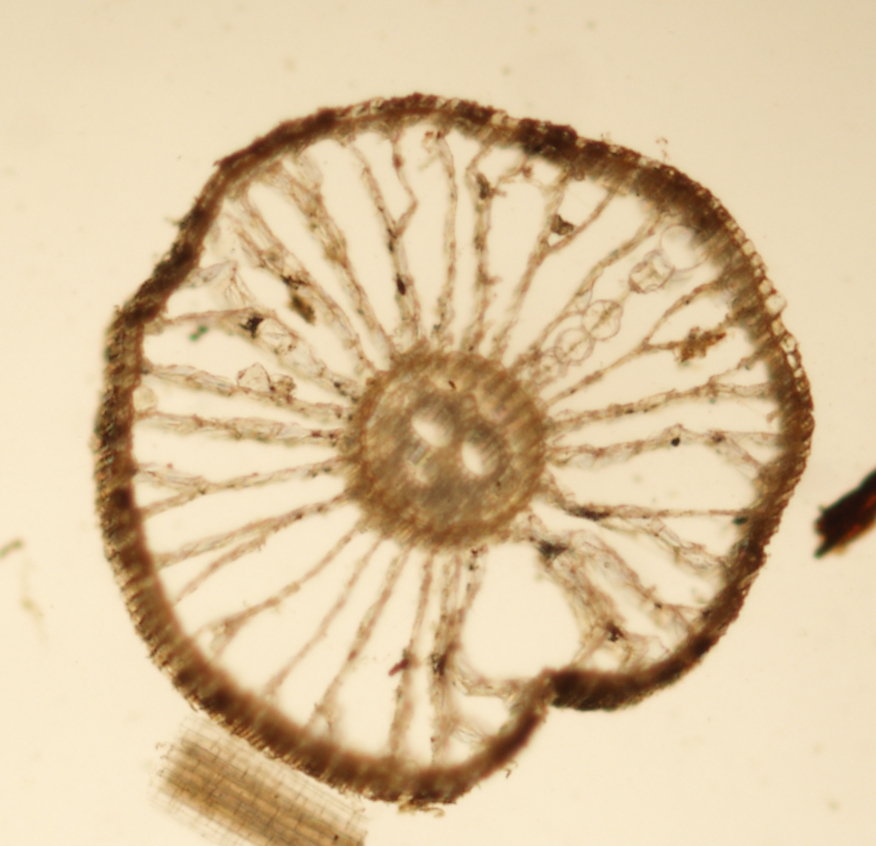lm: (460, 428, 501, 476), (411, 404, 455, 447), (403, 446, 438, 487)
